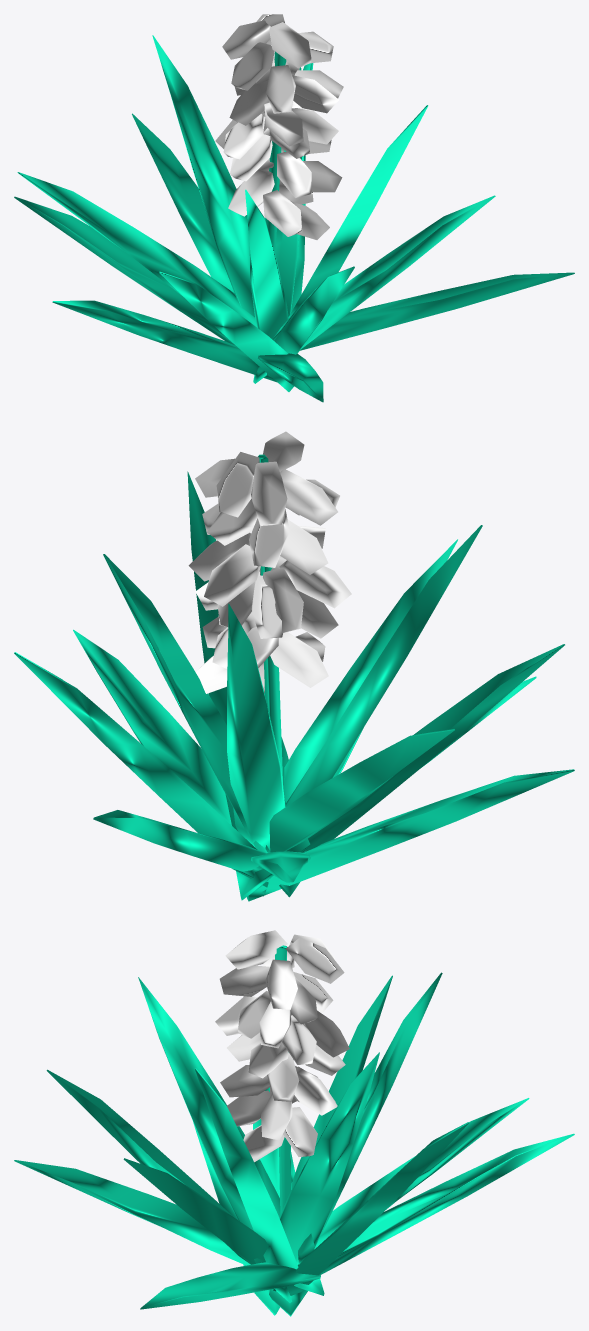
Rendered from Yucca_LOD0.obj.
3 views of the same model, one above another, from view 1: azimuth 30°, elevation 25°; view 2: azimuth 150°, elevation 25°; view 3: azimuth 270°, elevation 25° (orthographic). The views are drawn at different scales.
Parts seen in each view (by area): view 1: Yucca_LOD0; view 2: Yucca_LOD0; view 3: Yucca_LOD0.
Boxes of the visible parts, x1,y1,x2,y2 form: Yucca_LOD0: (14, 14, 574, 402); Yucca_LOD0: (14, 431, 574, 901); Yucca_LOD0: (14, 930, 574, 1316).
Size of the model in its own units: 183 by 140 by 188.
